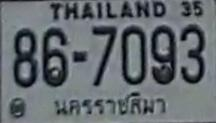0: (120, 25, 146, 84)
3: (179, 23, 204, 84)
6: (42, 27, 68, 86)
7: (92, 25, 116, 85)
8: (11, 27, 36, 87)
9: (150, 24, 174, 84)
NMA: (50, 90, 171, 119)
